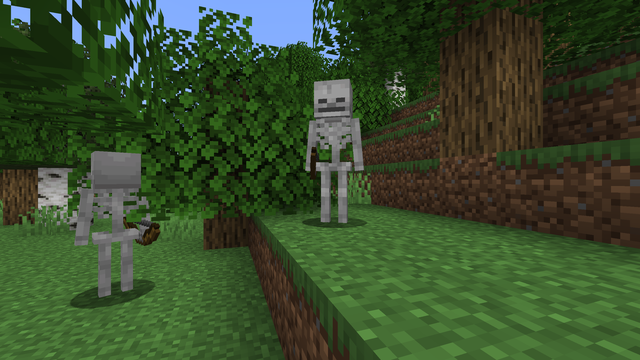squelettes: (78, 151, 145, 304), (308, 76, 361, 225)
